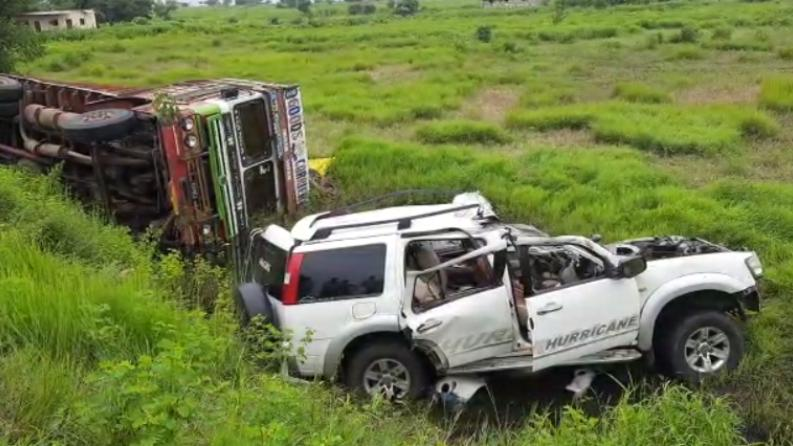accident: (27, 66, 749, 428)
